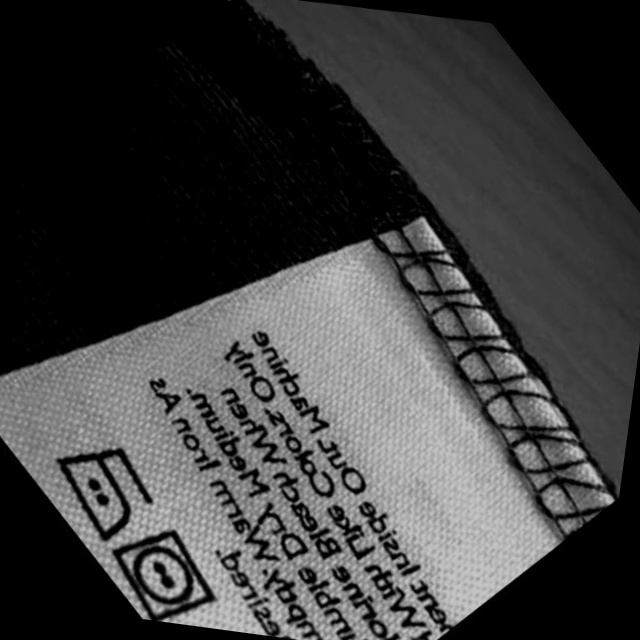iron_medium: (41, 437, 158, 544)
tumble_dry_medium: (101, 523, 222, 626)
